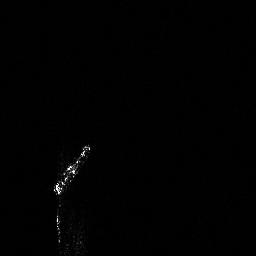ship: (48, 140, 96, 201)
